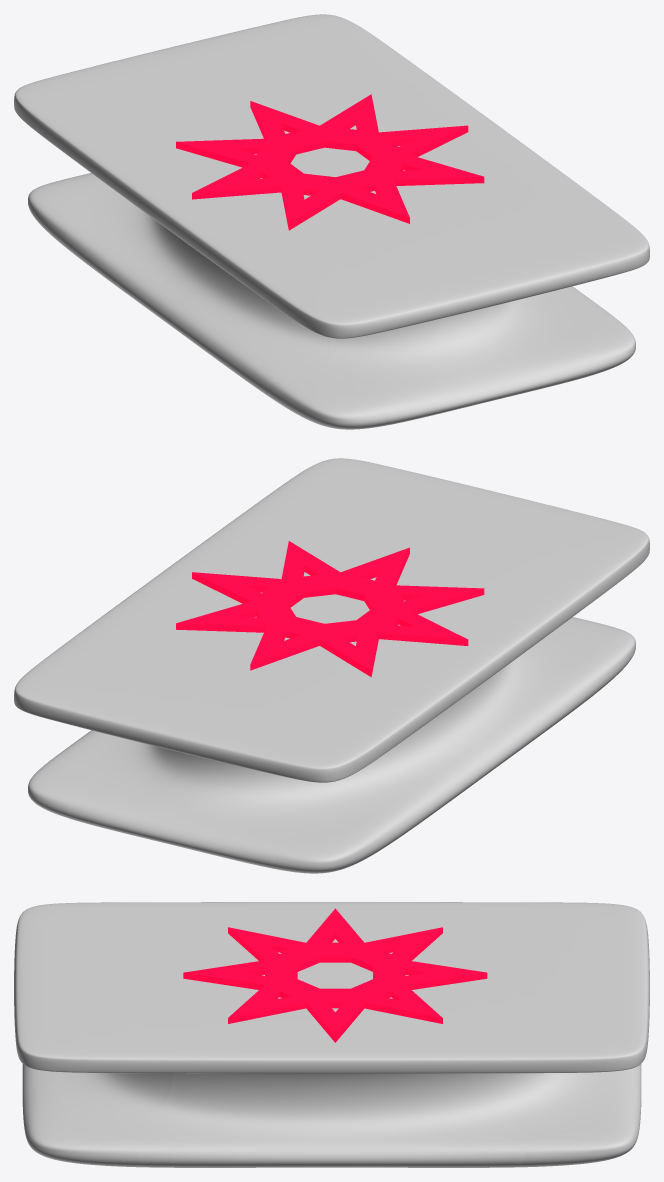
File: altar.fbx
3 renders of one model, top to bottom at view 1: azimuth 30°, elevation 25°; view 2: azimuth 150°, elevation 25°; view 3: azimuth 270°, elevation 25°, orthographic. The views are drawn at different scales.
Parts seen in each view (by area): view 1: Cube.001, Cube.002; view 2: Cube.001, Cube.002; view 3: Cube.001, Cube.002.
Boxes of the visible parts, left/top/right/bottom form: Cube.001: left=14, top=14, right=649, bottom=429; Cube.002: left=176, top=94, right=484, bottom=230; Cube.001: left=14, top=458, right=649, bottom=873; Cube.002: left=176, top=541, right=484, bottom=677; Cube.001: left=14, top=902, right=649, bottom=1167; Cube.002: left=183, top=908, right=487, bottom=1042.
Size of the model in its own units: 201 by 79.81 by 340.
